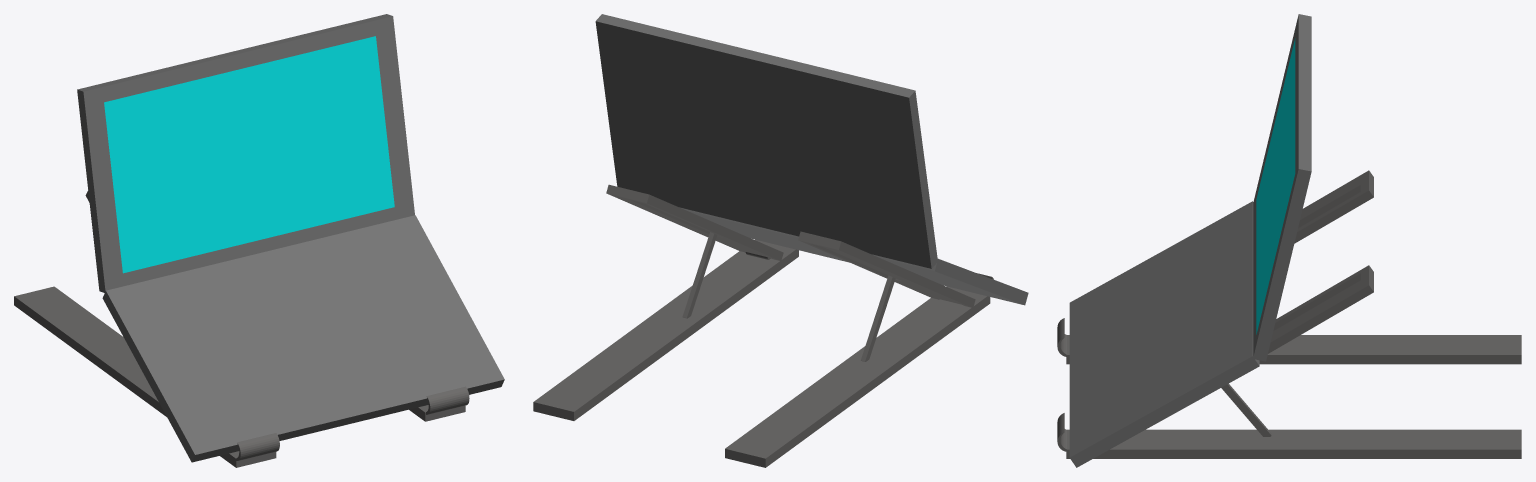
3 views of the same model, side by side, from view 1: azimuth 30°, elevation 25°; view 2: azimuth 150°, elevation 25°; view 3: azimuth 270°, elevation 25° (orthographic). The views are drawn at different scales.
Parts seen in each view (by area): view 1: 本.018, 本.004; view 2: 本.018, 本.004; view 3: 本.018, 本.004.
Boxes of the visible parts, <box> form: 本.018: <box>77,14,504,462</box>; 本.004: <box>14,190,469,467</box>; 本.018: <box>595,14,1028,305</box>; 本.004: <box>533,184,993,467</box>; 本.018: <box>1069,14,1311,467</box>; 本.004: <box>1057,170,1521,458</box>.
Bounding box in the file's own units: 0.8861 × 0.8281 × 1.12.
